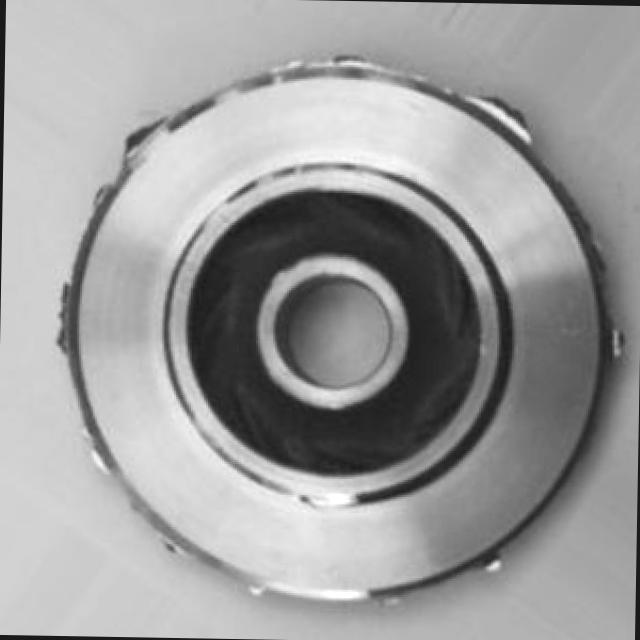Defect: (474, 81, 541, 142)
